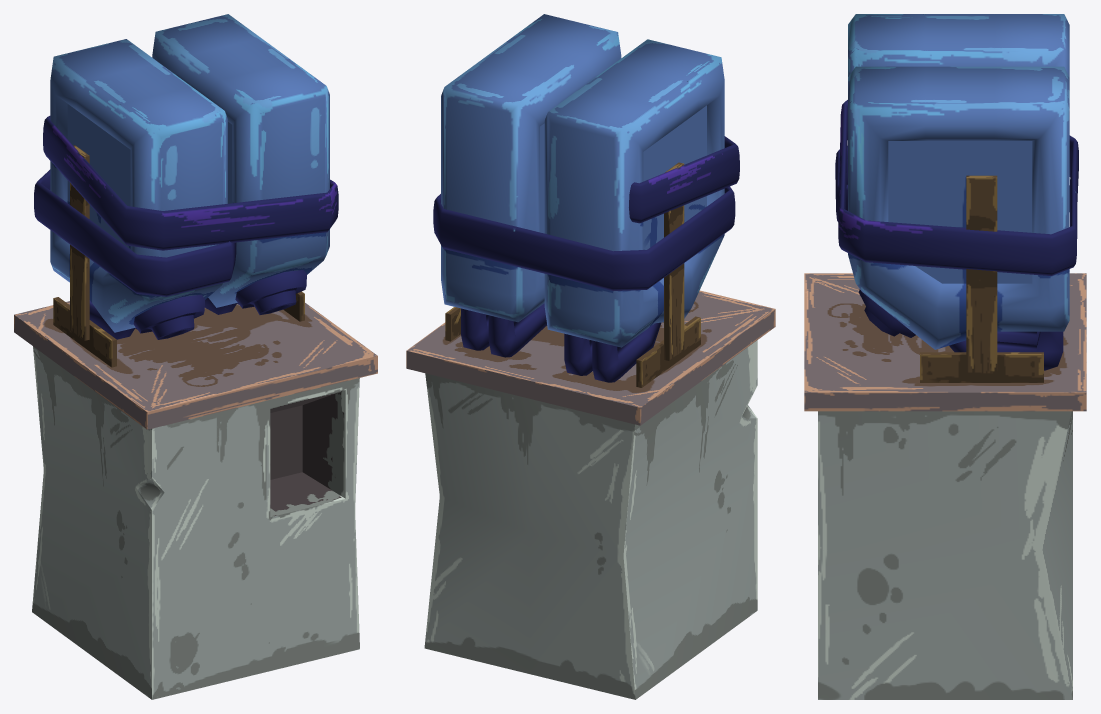
Rendered from Water_Cooler_1.fbx.
The picture shows the model from 3 angles, left to right: view 1: azimuth 30°, elevation 25°; view 2: azimuth 150°, elevation 25°; view 3: azimuth 270°, elevation 25°; orthographic projection. The views are drawn at different scales.
Parts seen in each view (by area): view 1: Water_Cooler_1; view 2: Water_Cooler_1; view 3: Water_Cooler_1.
Part boxes in pixels (<box>): Water_Cooler_1: <box>14,14,377,699</box>; Water_Cooler_1: <box>406,14,775,699</box>; Water_Cooler_1: <box>804,14,1086,699</box>.
Size of the model in its own units: 0.4967 by 1.14 by 0.4967.
